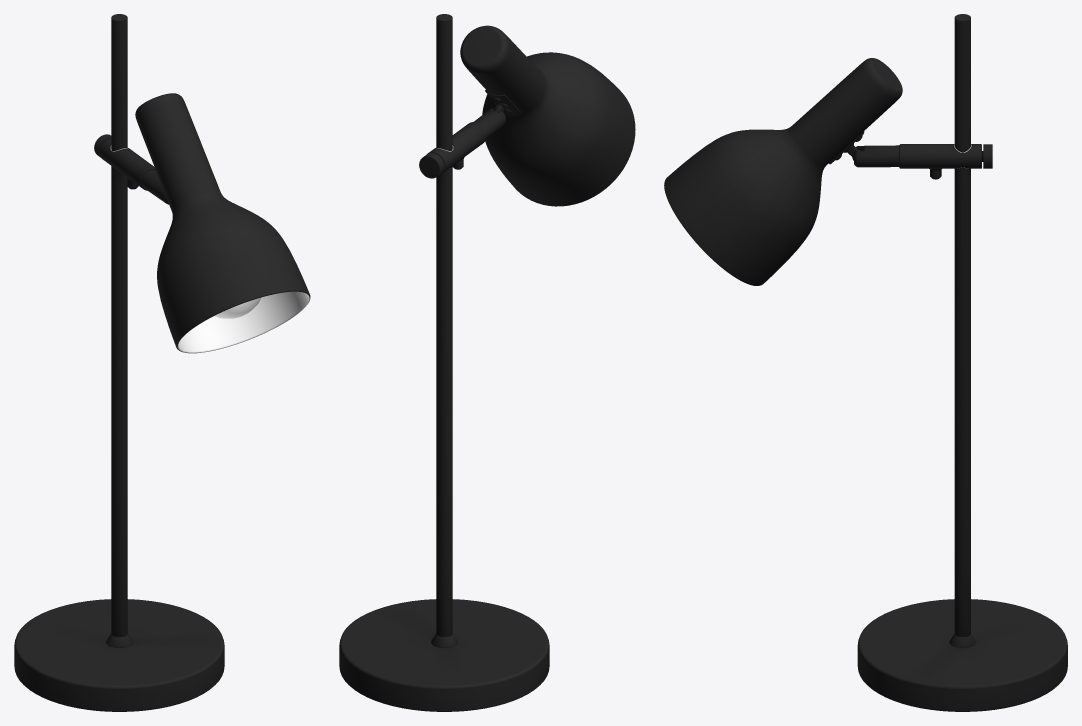
File: poster_3.glb
The picture shows the model from 3 angles, left to right: view 1: azimuth 30°, elevation 25°; view 2: azimuth 150°, elevation 25°; view 3: azimuth 270°, elevation 25°; orthographic projection.
Visible parts, largest first — view 1: table_lamp_3; view 2: table_lamp_3; view 3: table_lamp_3.
Boxes of the visible parts, x1,y1,x2,y2 form: table_lamp_3: (14, 14, 310, 711); table_lamp_3: (339, 14, 635, 711); table_lamp_3: (664, 14, 1067, 711).
Bounding box in the file's own units: 0.0942 × 0.3223 × 0.1812.
Materials: 2 (1 with a texture image).
